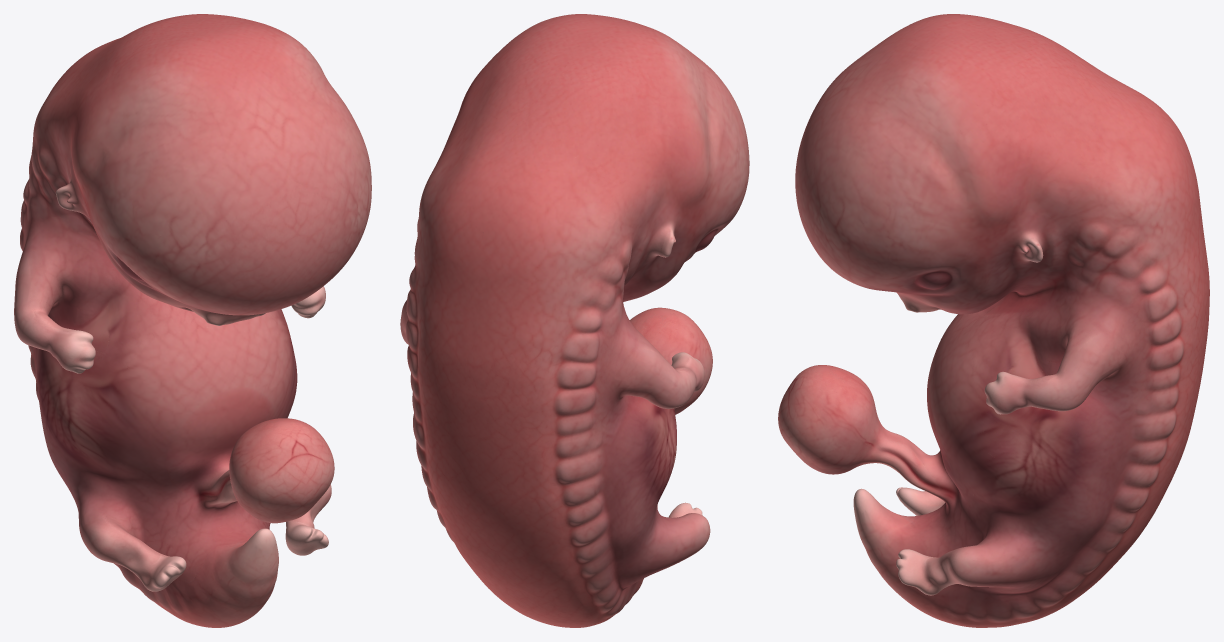
File: stade-04b.glb
The picture shows the model from 3 angles, left to right: view 1: azimuth 30°, elevation 25°; view 2: azimuth 150°, elevation 25°; view 3: azimuth 270°, elevation 25°; orthographic projection. The views are drawn at different scales.
Size of the model in its own units: 0.9708 by 1.9 by 1.26.
Materials: 1 (1 with a texture image).
